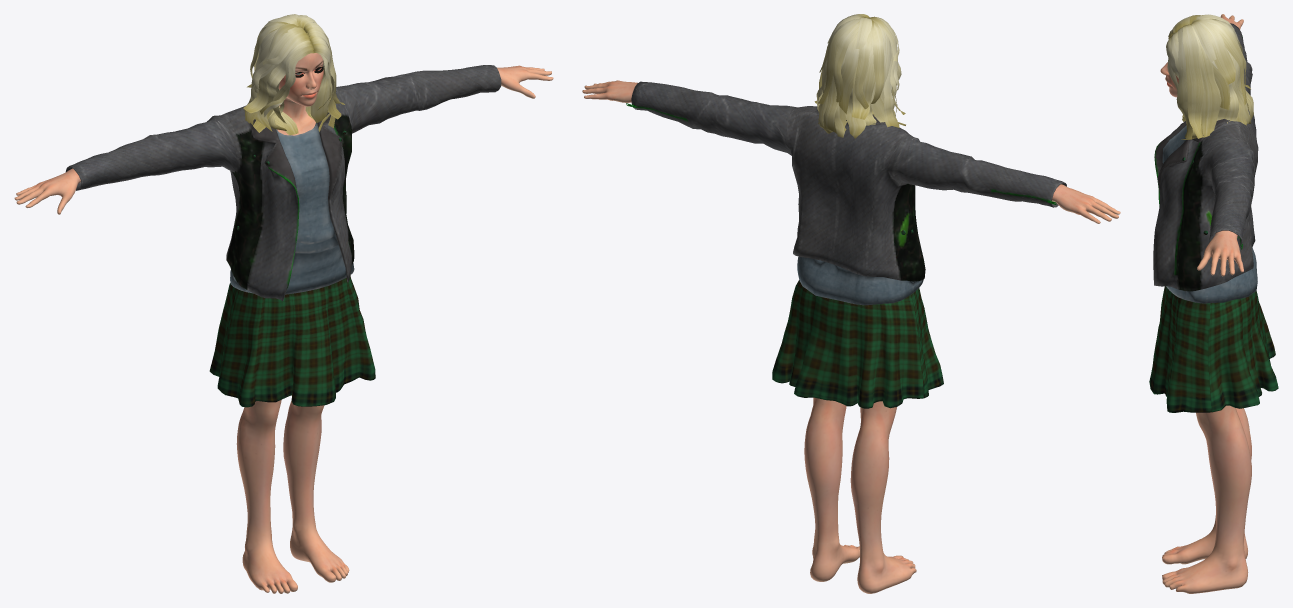
File: laura.obj
The picture shows the model from 3 angles, left to right: view 1: azimuth 30°, elevation 25°; view 2: azimuth 150°, elevation 25°; view 3: azimuth 270°, elevation 25°; orthographic projection.
Parts seen in each view (by area): view 1: Tops, Body, Bottoms, Hair; view 2: Tops, Bottoms, Body, Hair; view 3: Tops, Bottoms, Body, Hair.
Boxes of the visible parts, x1,y1,x2,y2 form: Tops: [65, 65, 501, 301]; Body: [14, 53, 553, 593]; Bottoms: [209, 275, 375, 407]; Hair: [243, 14, 344, 135]; Tops: [626, 81, 1066, 305]; Bottoms: [772, 280, 943, 408]; Body: [582, 80, 1120, 593]; Hair: [814, 14, 905, 138]; Tops: [1153, 23, 1258, 303]; Bottoms: [1149, 286, 1278, 412]; Body: [1160, 14, 1251, 593]; Hair: [1166, 14, 1253, 139].
Bounding box in the file's own units: 179 × 178 × 37.61.
